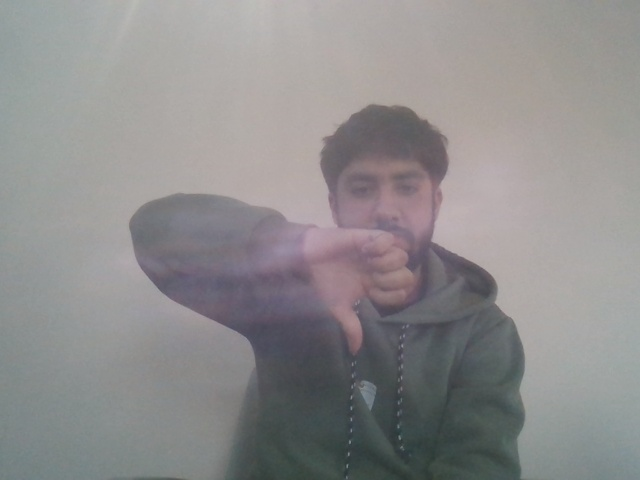No: (311, 222, 412, 360)
